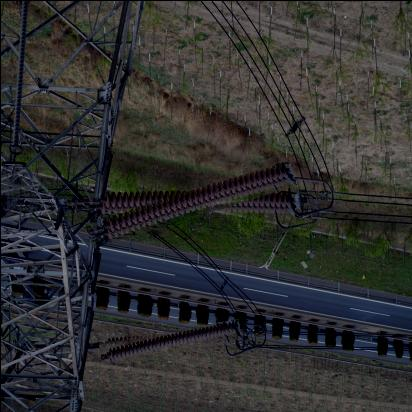insulator: (84, 176, 297, 234), (99, 325, 242, 359)
